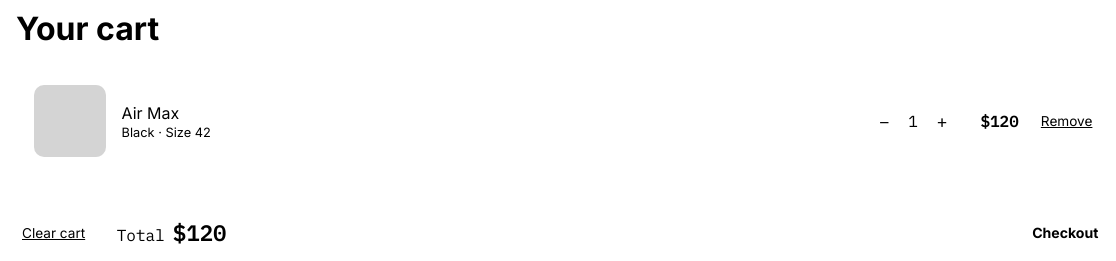
Scenario: Cart › removes the product from the cart
What coordinates should you click on to do the following:
click the button "Remove"
I would click on:
 (1067, 121)
Its box is [1035, 112, 1098, 130].
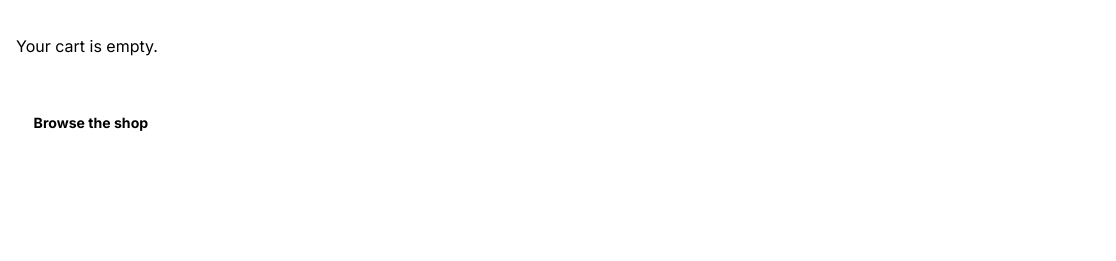
Expected: the text "Your cart is empty." is shown, [16, 36, 158, 56]
